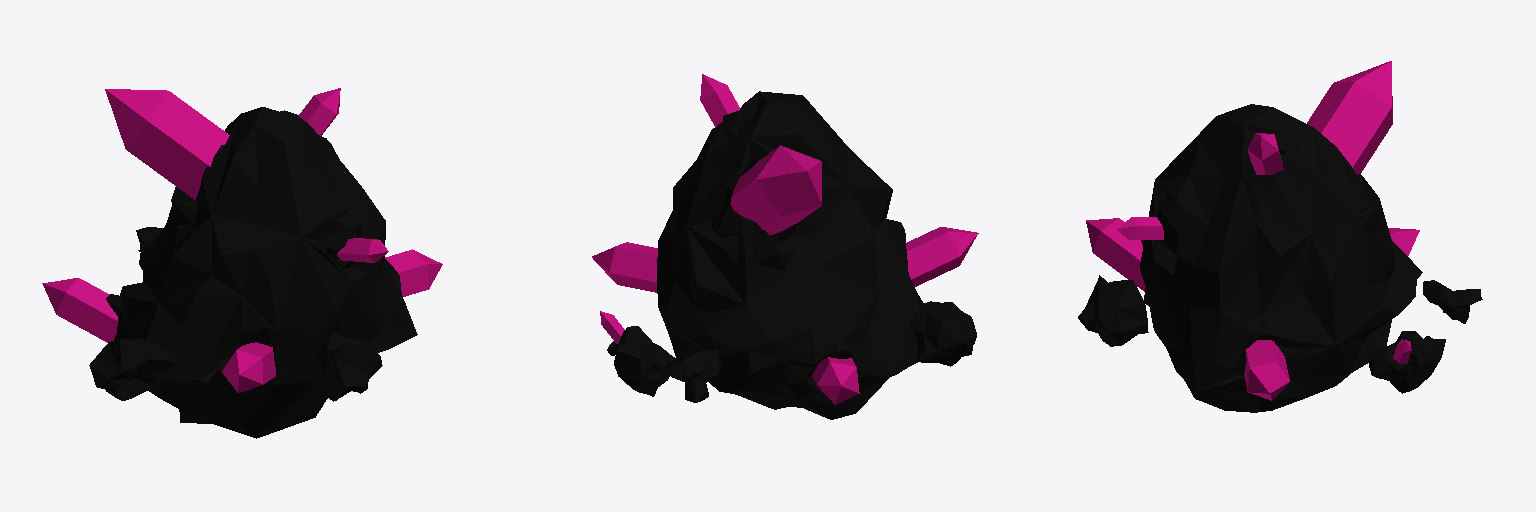
The model's file is Crystal_Core.obj.
3 renders of one model, left to right at view 1: azimuth 30°, elevation 25°; view 2: azimuth 150°, elevation 25°; view 3: azimuth 270°, elevation 25°, orthographic.
Visible parts, largest first — view 1: Icosphere; view 2: Icosphere; view 3: Icosphere.
Part boxes in pixels (x1,y1,x2,y2): Icosphere: (42,88,442,438); Icosphere: (592,74,978,419); Icosphere: (1078,61,1482,412).
Bounding box in the file's own units: 10.08 × 8.3 × 9.72.